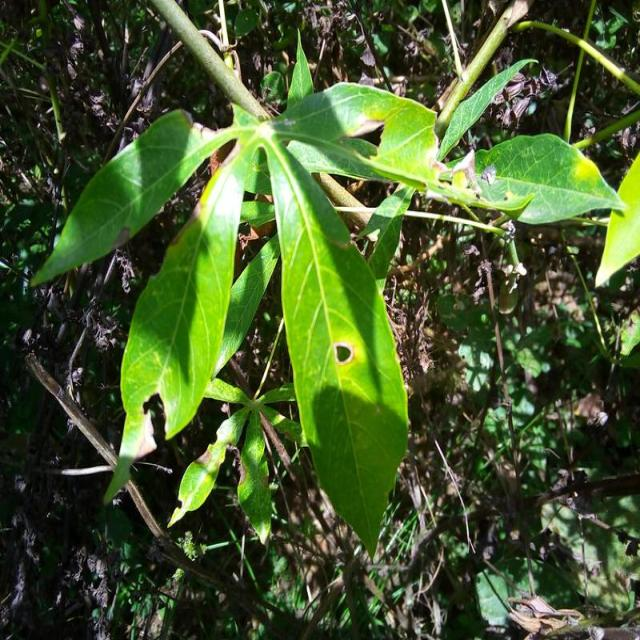cassava leaf: (250, 105, 412, 560), (30, 107, 224, 288), (472, 131, 630, 225), (595, 150, 640, 289)
